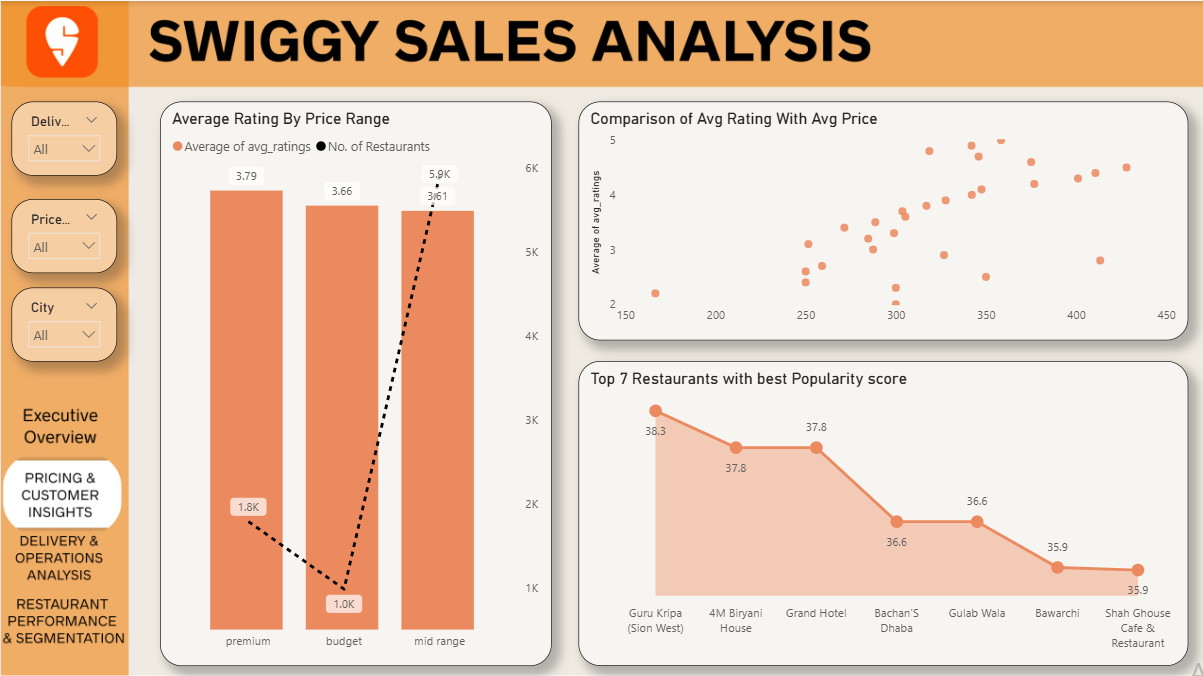

The page's visual inventory and layout, read from the dashboard file:
{"tool":"powerbi","page":{"name":"Pricing and Customer Insights","canvas":[1280,720],"ordinal":1},"visuals":[{"type":"lineClusteredColumnComboChart","title":"Average Rating By Price Range","fields":{"Category":["final.Price_range"],"Y":["Avg(final.avg_ratings)"],"Y2":["final.No. of Restaurants"]},"box":[168.3,106.7,415,598.3],"z":0},{"type":"scatterChart","title":"Comparison of Avg Rating With Avg Price","fields":{"Y":["Avg(final.avg_ratings)"],"Category":["final.avg_ratings"],"X":["Avg(final.price)"]},"box":[611.7,106.7,646.7,253.3],"z":1000},{"type":"areaChart","title":"Top 7 Restaurants with best Popularity score","fields":{"Category":["final.Restaurant"],"Y":["Avg(final.popularity_scores)"]},"box":[611.7,381.7,646.7,323.3],"z":2000},{"type":"slicer","fields":{"Values":["final.City"]},"box":[11.7,303.3,111.7,78.3],"z":3000},{"type":"slicer","fields":{"Values":["final.Price_range"]},"box":[11.7,210,111.7,78.3],"z":4000},{"type":"slicer","fields":{"Values":["final.Delivery_range"]},"box":[11.7,106.7,111.7,78.3],"z":5000}]}

Visuals, with their boxes in screenshot pixels (x1, y1, x2, y2), scaled from the page's 1280x720 canvas onto the 1203x676 screenshot:
"Average Rating By Price Range" lineClusteredColumnComboChart: 158:100:548:662
"Comparison of Avg Rating With Avg Price" scatterChart: 575:100:1183:338
"Top 7 Restaurants with best Popularity score" areaChart: 575:358:1183:662
slicer - final.City: 11:285:116:358
slicer - final.Price_range: 11:197:116:271
slicer - final.Delivery_range: 11:100:116:174
